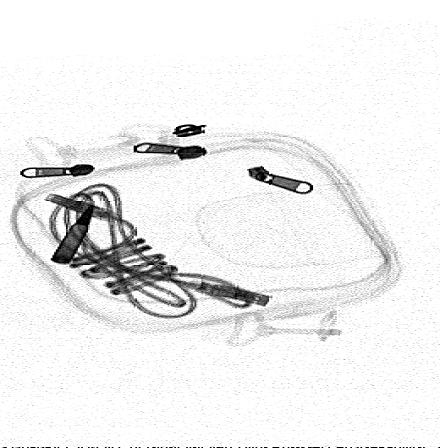Bullet: (50, 204, 93, 264)
